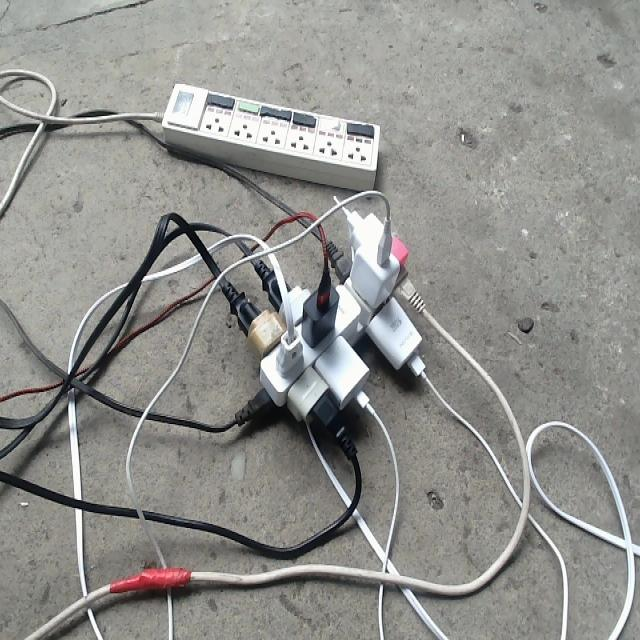-: (226, 215, 424, 422)
